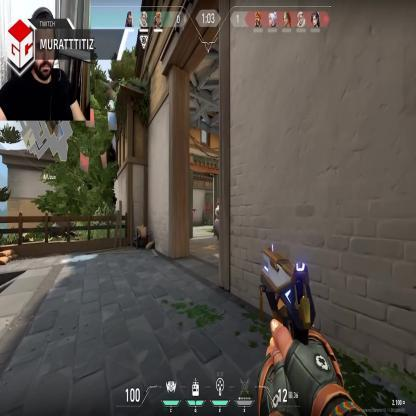enemy: (213, 195, 222, 244), (186, 199, 196, 237)
enemy_head: (216, 199, 219, 207)
